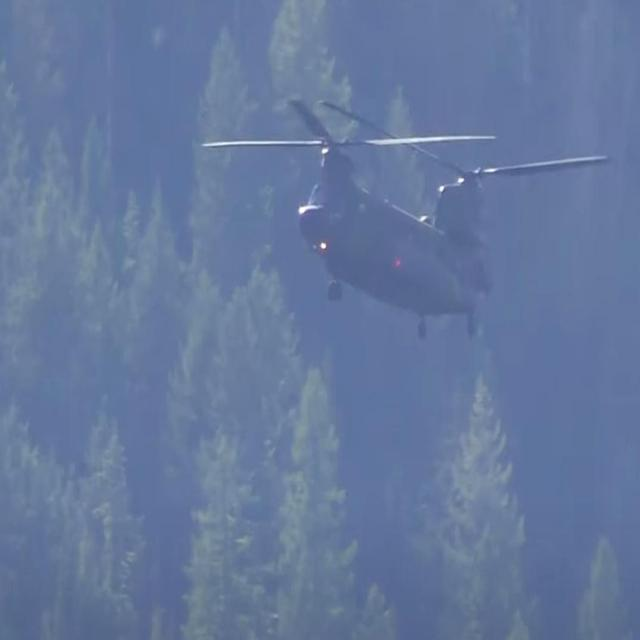Helicopter: (256, 81, 562, 362)
